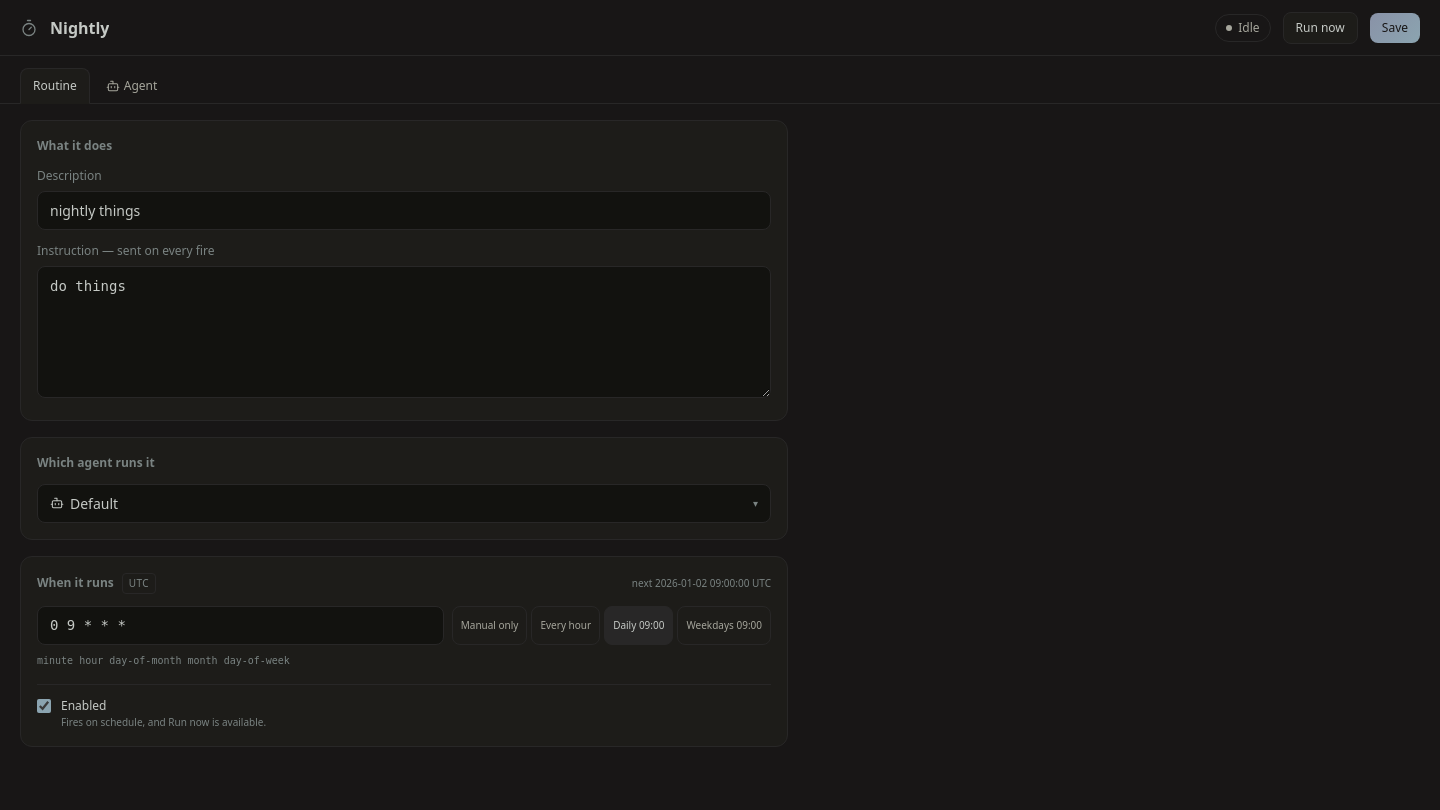
Test: RoutineView › shows an inline error for a bad cron and disables Save
Replace the text in the field with test id "routine-schedule" with "0 9 * * * *": (240,625) [37,606,444,645]
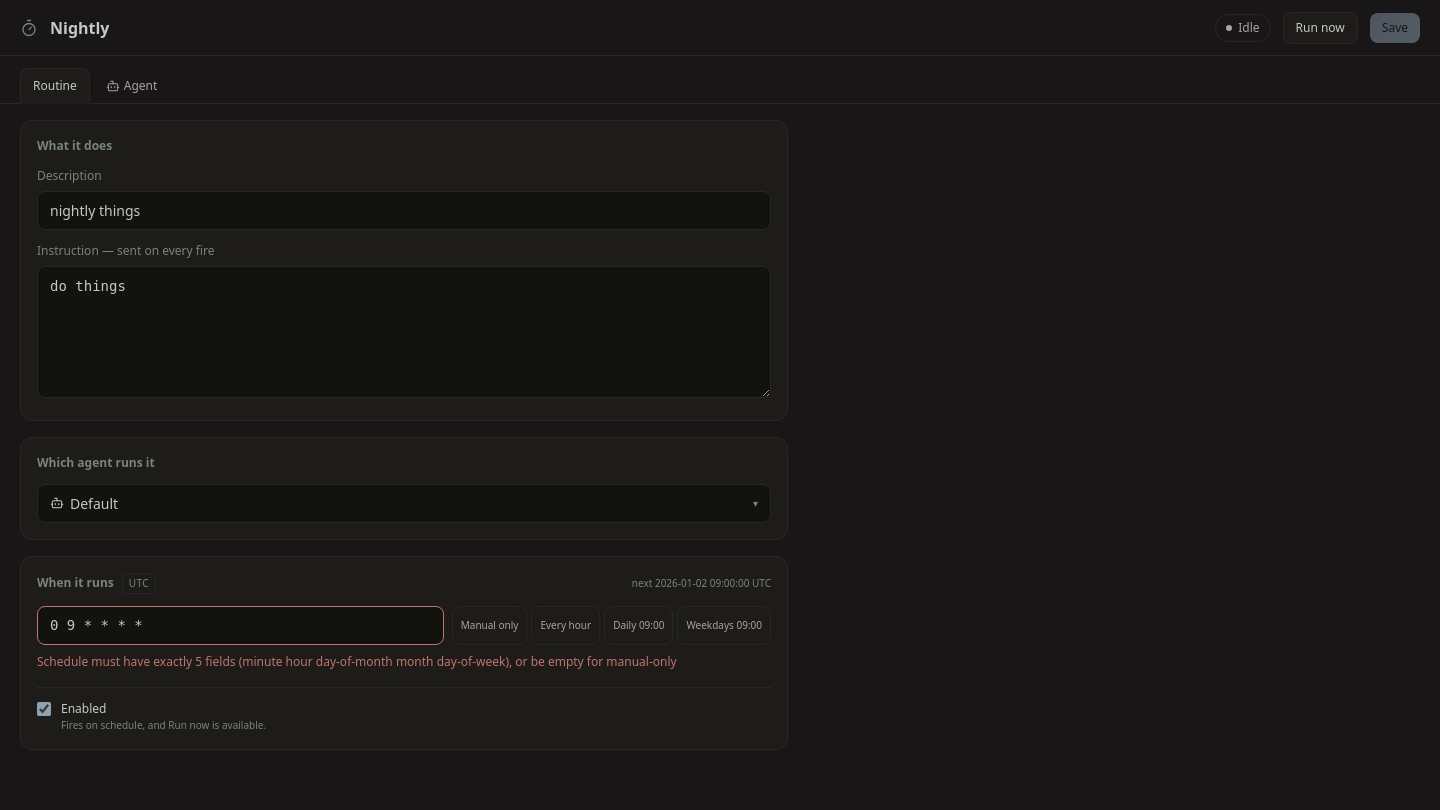
Expected: the text "exactly 5 fields" is shown, [37,653,677,670]
Expected: the button with test id "routine-save" is disabled, [1370,12,1420,42]
